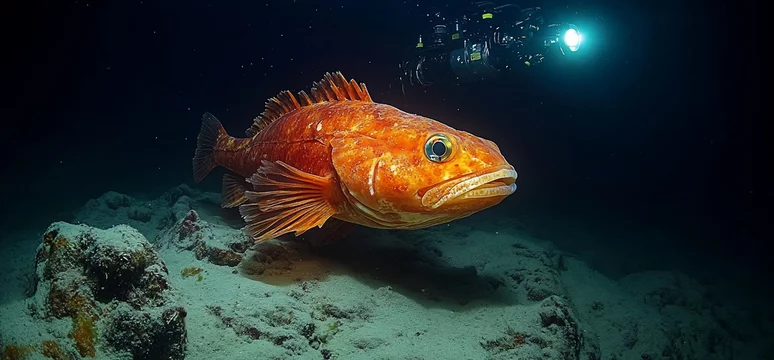Rock Fish: (141, 101, 570, 256)
